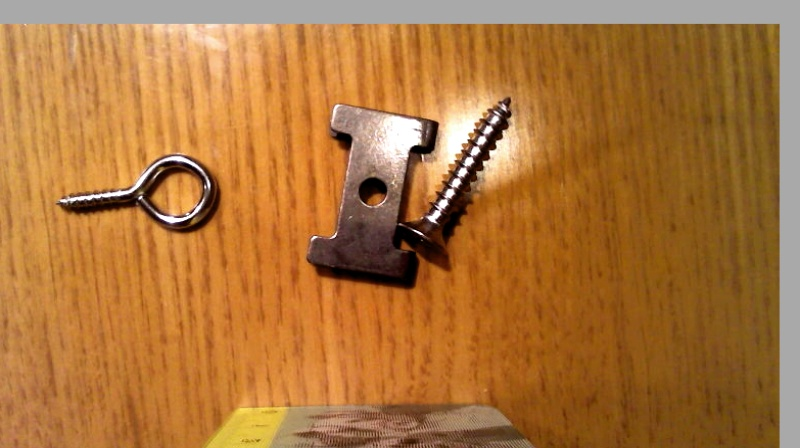O001: (47, 151, 222, 235)
O002: (306, 102, 441, 288)
S001: (395, 94, 514, 264)
